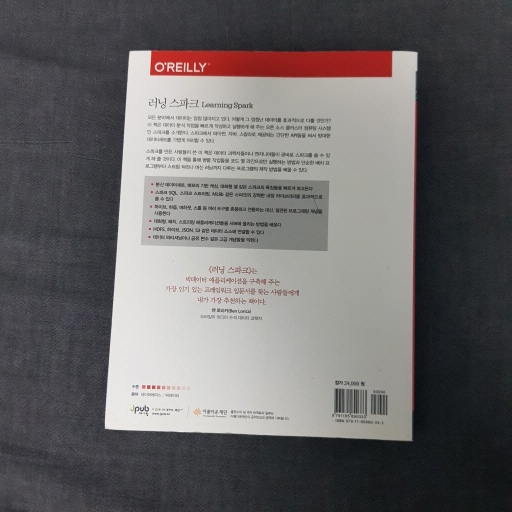Paper_0: (97, 38, 440, 451)
